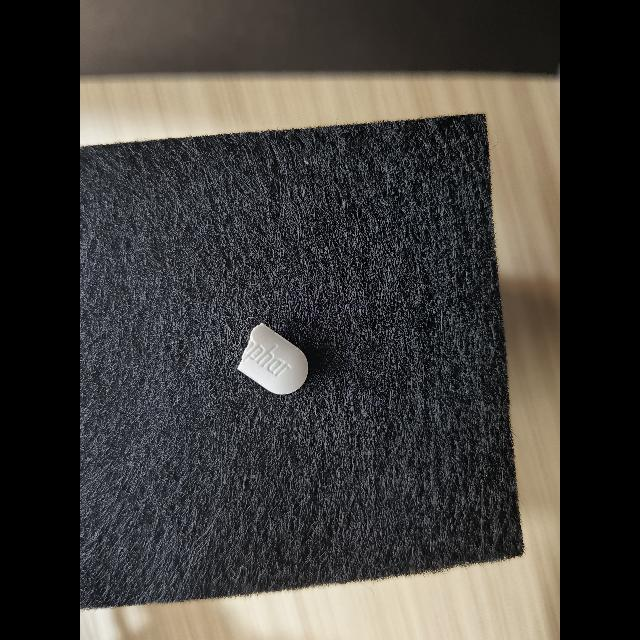Chipped Pill: (237, 323, 308, 394)
